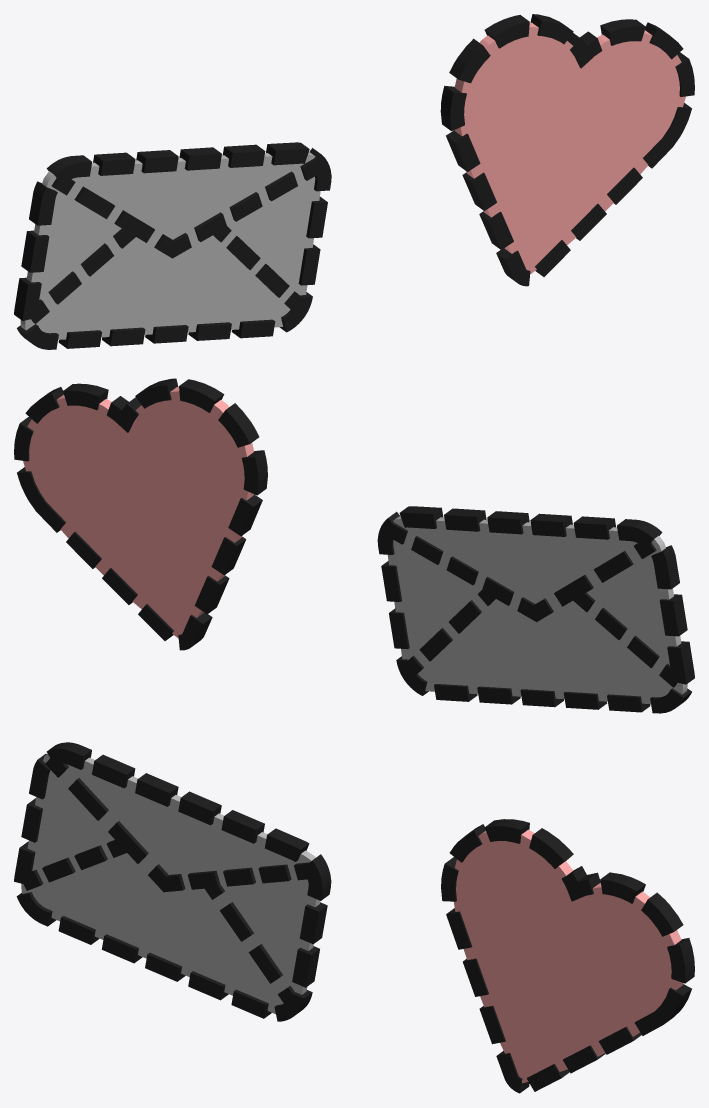
Rendered from lettera_cuore_tratt.fbx.
3 renders of one model, top to bottom at view 1: azimuth 30°, elevation 25°; view 2: azimuth 150°, elevation 25°; view 3: azimuth 330°, elevation 25°, orthographic.
Visible parts, largest first — view 1: LETTERA TRATT, CUORE TRATT; view 2: LETTERA TRATT, CUORE TRATT; view 3: LETTERA TRATT, CUORE TRATT.
Boxes of the visible parts, x1,y1,x2,y2 form: LETTERA TRATT: (14, 142, 331, 349); CUORE TRATT: (440, 14, 694, 286); LETTERA TRATT: (377, 506, 694, 713); CUORE TRATT: (14, 378, 267, 650); LETTERA TRATT: (14, 742, 331, 1021); CUORE TRATT: (441, 819, 694, 1093).
Bounding box in the file's own units: 0.3416 × 0.1284 × 0.00834.
